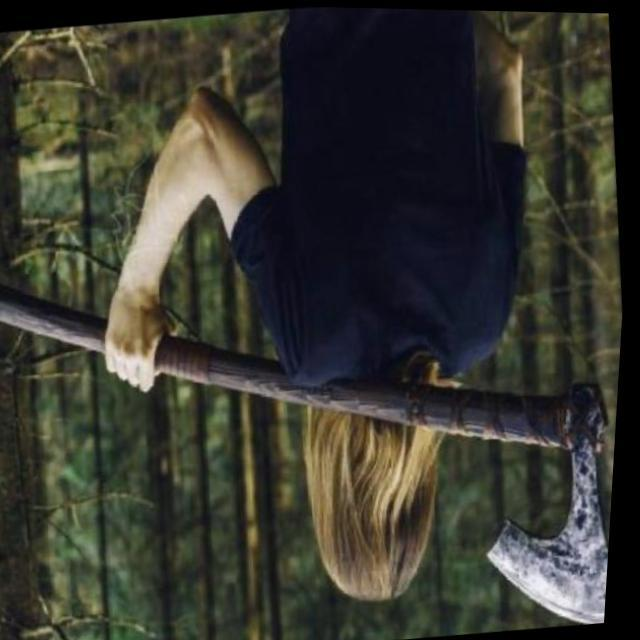weapon: (0, 209, 630, 640)
